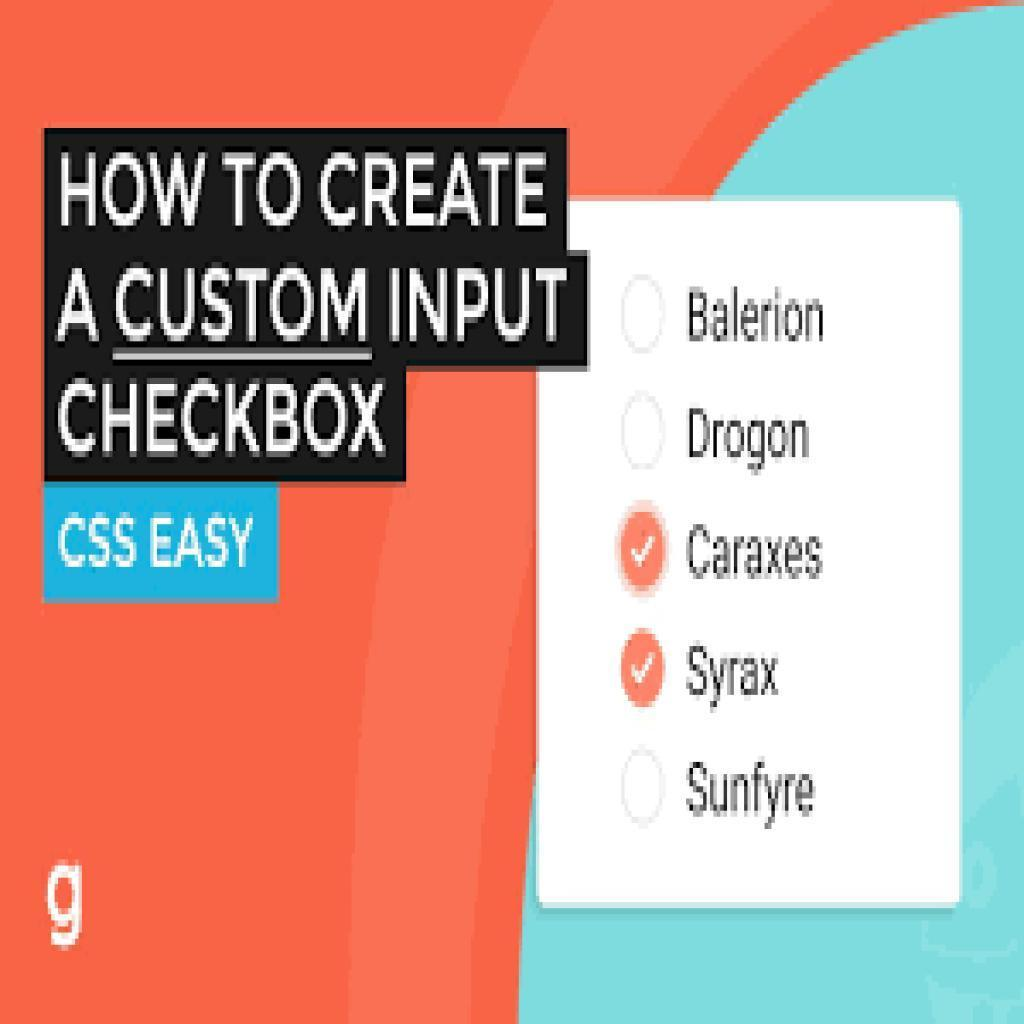checkbox: (615, 498, 672, 600), (621, 627, 669, 713), (621, 393, 667, 475), (621, 747, 668, 827), (619, 276, 667, 354)
label: (682, 752, 820, 834), (687, 280, 831, 349), (684, 517, 825, 585), (685, 401, 812, 476), (685, 641, 786, 721)
